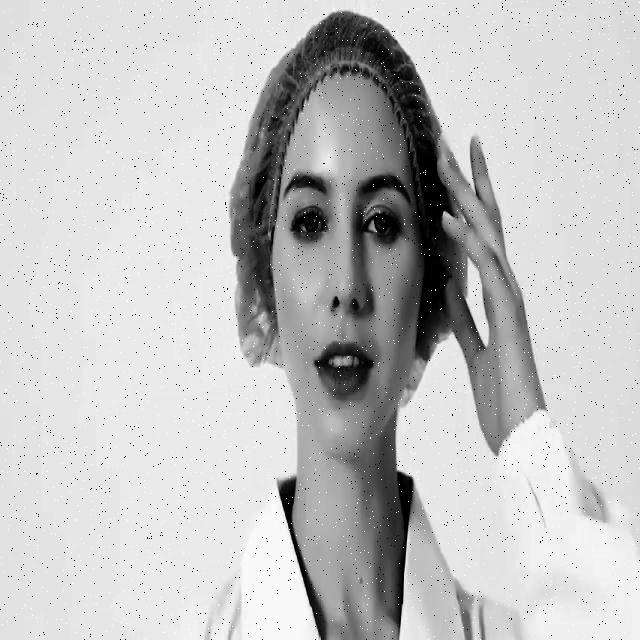gloves: (260, 0, 426, 116)
no_apron: (420, 122, 552, 418)
no_hairnet: (286, 270, 402, 410)
